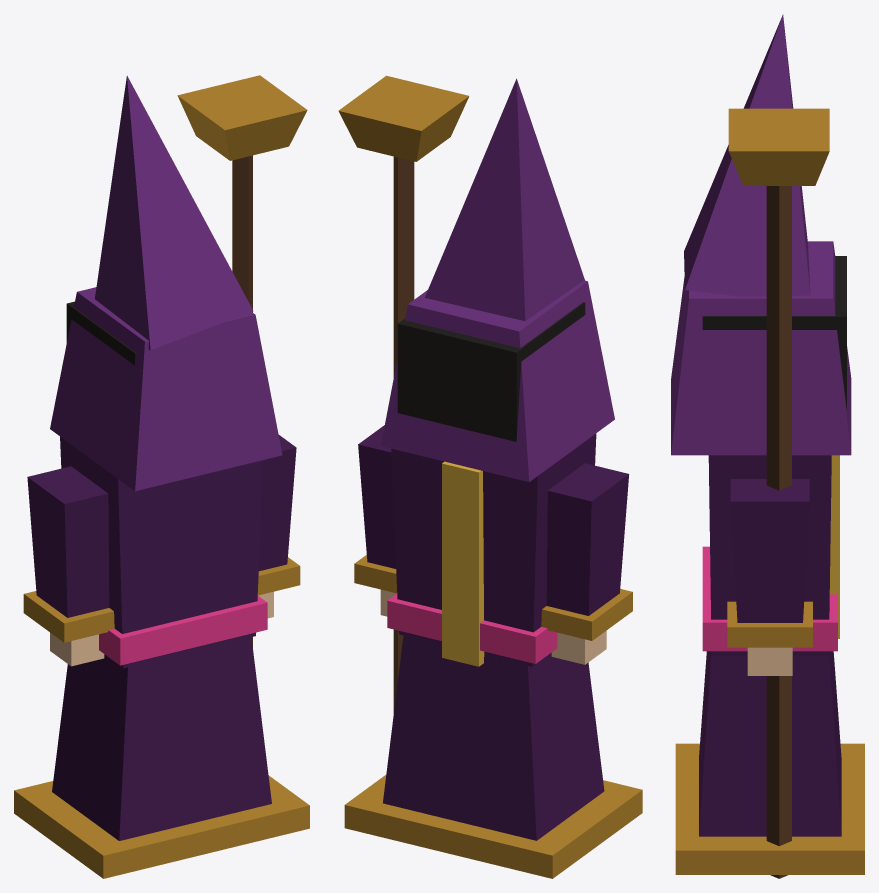
Rendered from EN_Sorcerer.fbx.
The picture shows the model from 3 angles, left to right: view 1: azimuth 30°, elevation 25°; view 2: azimuth 150°, elevation 25°; view 3: azimuth 270°, elevation 25°; orthographic projection. The views are drawn at different scales.
Visible parts, largest first — view 1: Robe, Hood, Body, Point, Hem, ArmL, Claw, Belt, ArmR, Staff, CuffL, HandL (+2 smaller); view 2: Robe, Hood, Point, Body, Head, Hem, ArmL, Stole, Claw, Staff, Belt, ArmR (+3 smaller); view 3: Hood, Robe, Point, Staff, Hem, ArmR, Body, Claw, Head, Belt, CuffR, Stole (+1 smaller).
Boxes of the visible parts, left/top/right/bottom form: Robe: left=52, top=634, right=271, bottom=840; Hood: left=50, top=287, right=282, bottom=491; Body: left=60, top=436, right=263, bottom=668; Point: left=95, top=75, right=253, bottom=350; Hem: left=14, top=775, right=309, bottom=878; ArmL: left=27, top=466, right=109, bottom=617; Claw: left=177, top=75, right=307, bottom=160; Belt: left=99, top=595, right=267, bottom=665; ArmR: left=258, top=435, right=296, bottom=571; Staff: left=232, top=155, right=252, bottom=647; CuffL: left=23, top=591, right=114, bottom=642; HandL: left=50, top=632, right=104, bottom=666; Robe: left=383, top=633, right=604, bottom=840; Hood: left=381, top=280, right=614, bottom=481; Point: left=424, top=78, right=584, bottom=321; Body: left=391, top=433, right=596, bottom=666; Head: left=397, top=302, right=585, bottom=441; Hem: left=344, top=775, right=642, bottom=878; ArmL: left=546, top=463, right=629, bottom=615; Stole: left=442, top=461, right=484, bottom=666; Claw: left=338, top=75, right=469, bottom=161; Staff: left=393, top=156, right=414, bottom=713; Belt: left=387, top=593, right=557, bottom=663; ArmR: left=358, top=425, right=396, bottom=568; Hood: left=671, top=241, right=851, bottom=455; Robe: left=699, top=651, right=841, bottom=836; Point: left=684, top=14, right=810, bottom=296; Staff: left=766, top=186, right=791, bottom=878; Hem: left=675, top=743, right=864, bottom=874; ArmR: left=730, top=479, right=809, bottom=622; Body: left=708, top=455, right=831, bottom=655; Claw: left=728, top=108, right=829, bottom=185; Head: left=702, top=256, right=846, bottom=409; Belt: left=702, top=546, right=837, bottom=651; CuffR: left=727, top=601, right=812, bottom=647; Stole: left=829, top=455, right=839, bottom=638.
Bounding box in the file's own units: 0.6663 × 0.43 × 2.05.
